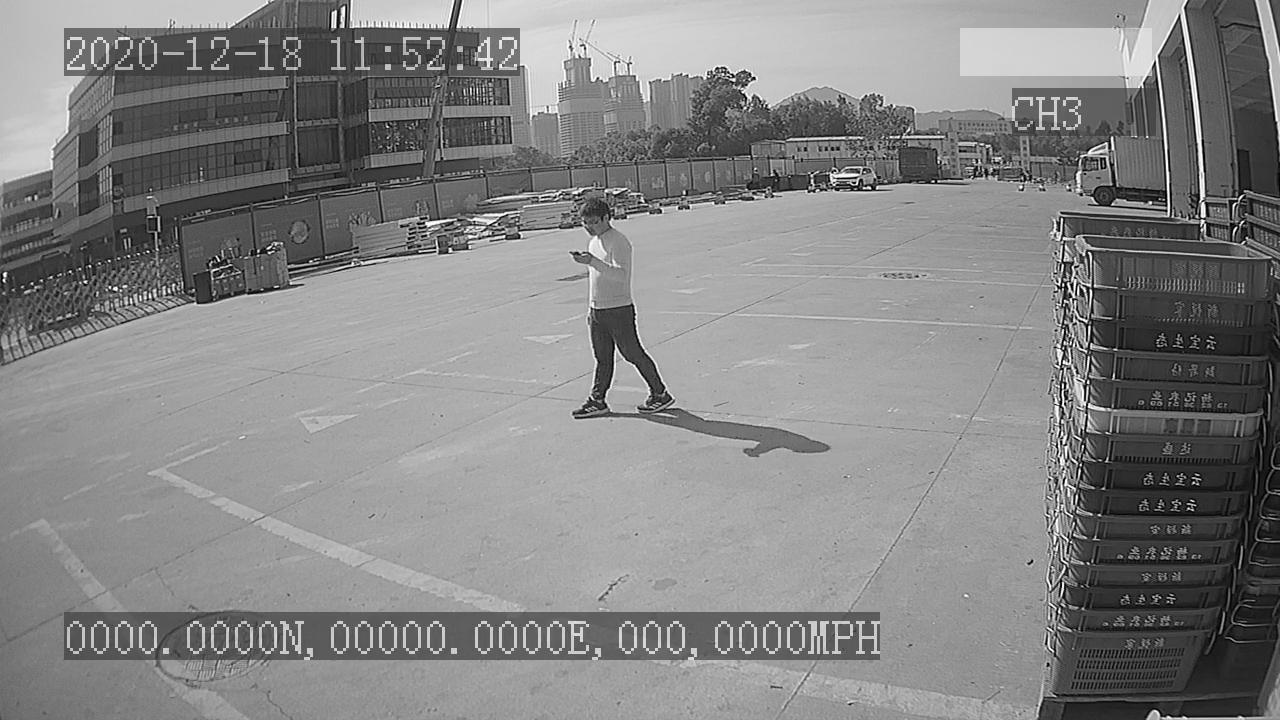person: (561, 192, 681, 424)
